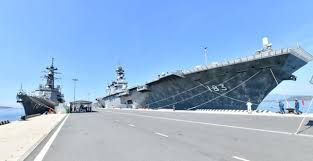tau_muctieu: (19, 68, 64, 114)
